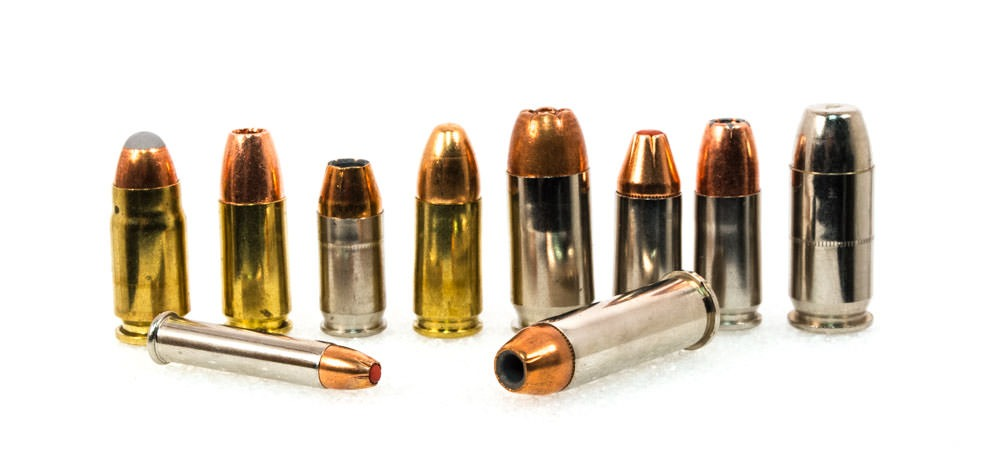bullet: (787, 101, 876, 337), (144, 307, 389, 390), (502, 97, 590, 327), (112, 128, 184, 344), (412, 121, 480, 341), (692, 112, 759, 321), (223, 125, 288, 332), (321, 146, 372, 339), (623, 125, 682, 291)
